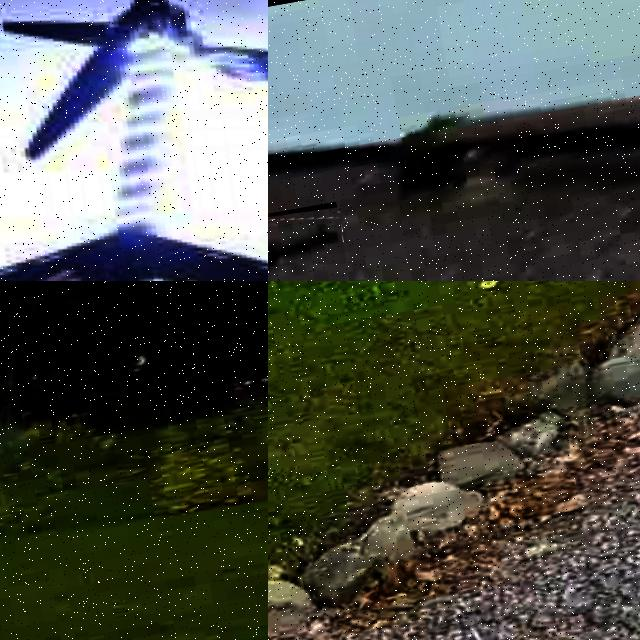drone: (0, 0, 268, 281), (268, 201, 353, 281)
